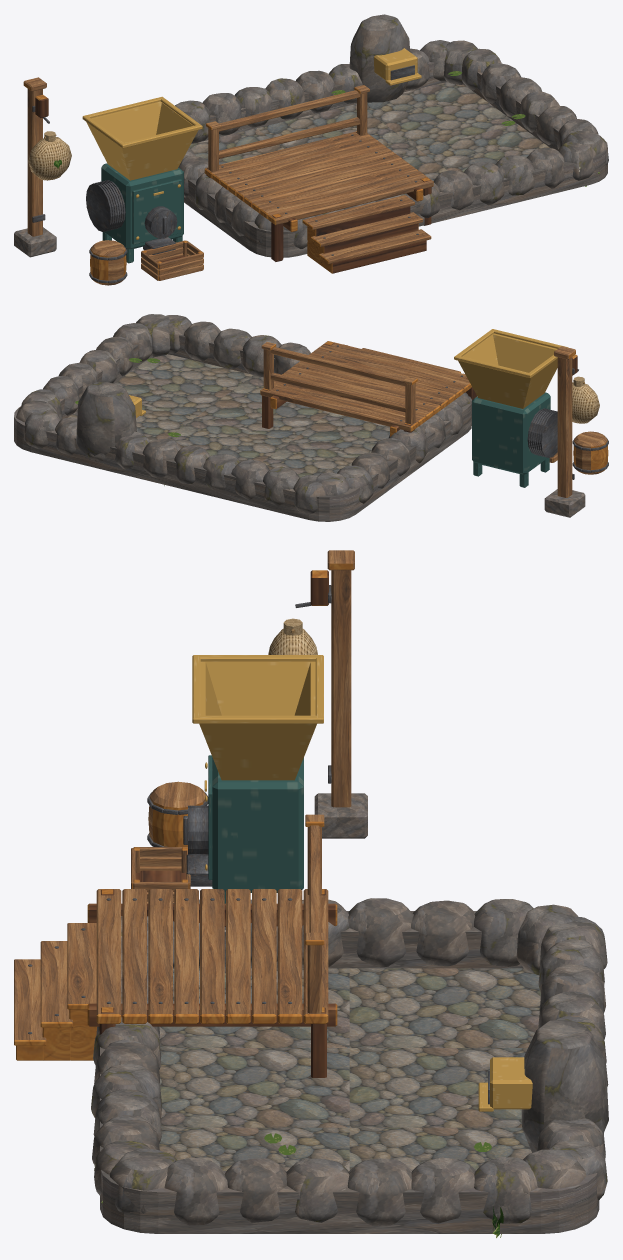
File: FishPond_Cozy_LOD0.fbx
3 renders of one model, top to bottom at view 1: azimuth 30°, elevation 25°; view 2: azimuth 150°, elevation 25°; view 3: azimuth 270°, elevation 25°, orthographic. The views are drawn at different scales.
Parts seen in each view (by area): view 1: FishPond_Cozy_LOD0; view 2: FishPond_Cozy_LOD0; view 3: FishPond_Cozy_LOD0.
Part boxes in pixels (<box>): FishPond_Cozy_LOD0: <box>14,14,608,285</box>; FishPond_Cozy_LOD0: <box>14,314,608,521</box>; FishPond_Cozy_LOD0: <box>14,550,608,1237</box>.
Bounding box in the file's own units: 12.22 × 3.72 × 7.15.
